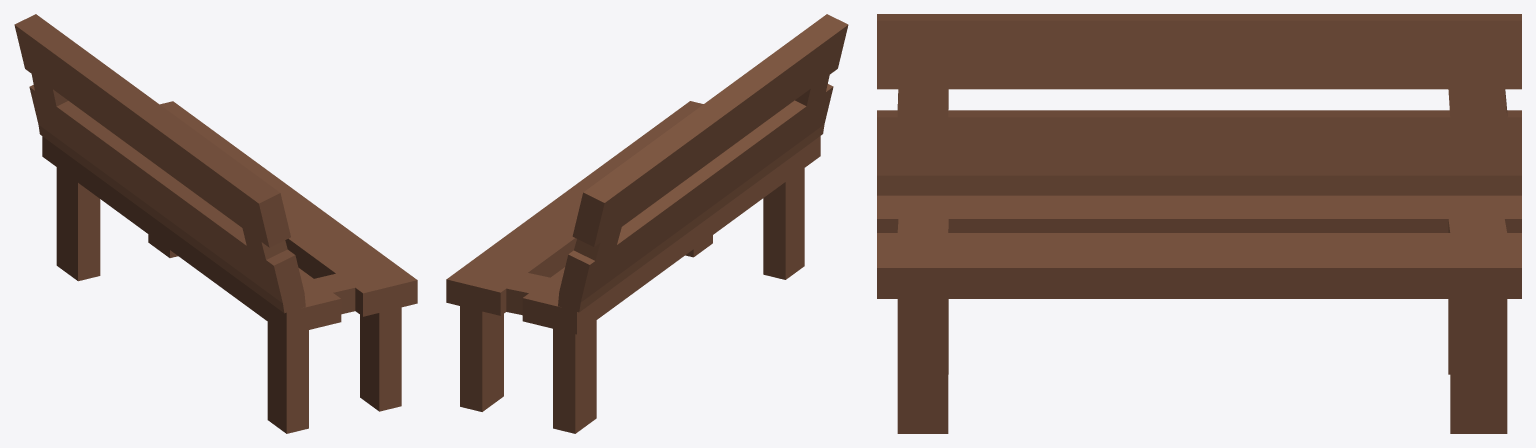
Rendered from Bankje_AlexBlok.fbx.
3 views of the same model, side by side, from view 1: azimuth 30°, elevation 25°; view 2: azimuth 150°, elevation 25°; view 3: azimuth 270°, elevation 25° (orthographic). The views are drawn at different scales.
Parts seen in each view (by area): view 1: Cube.001; view 2: Cube.001; view 3: Cube.001.
Boxes of the visible parts, <box> form: Cube.001: <box>14,14,417,433</box>; Cube.001: <box>446,14,848,433</box>; Cube.001: <box>877,14,1521,433</box>.
Size of the model in its own units: 72.6 by 109 by 194.
